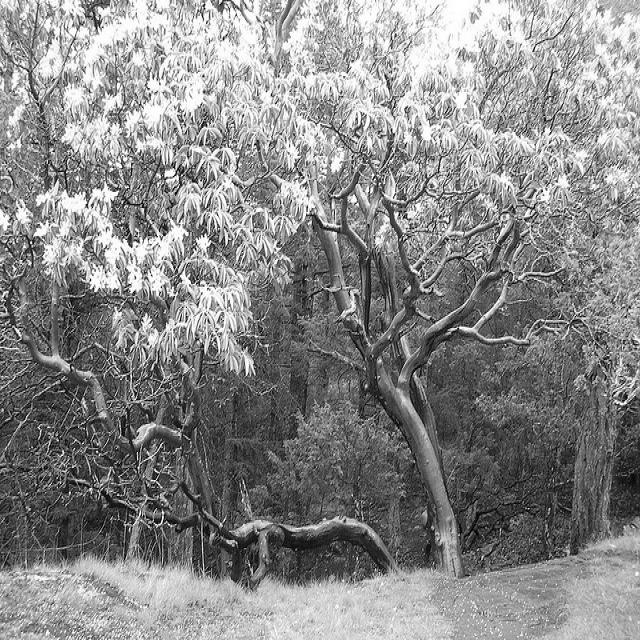Arbutus menziesii: (66, 0, 640, 580), (3, 6, 407, 597)
